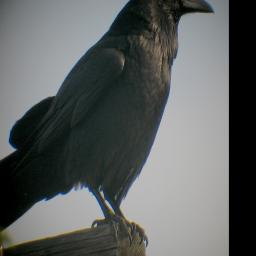Crow: (0, 0, 216, 247)
